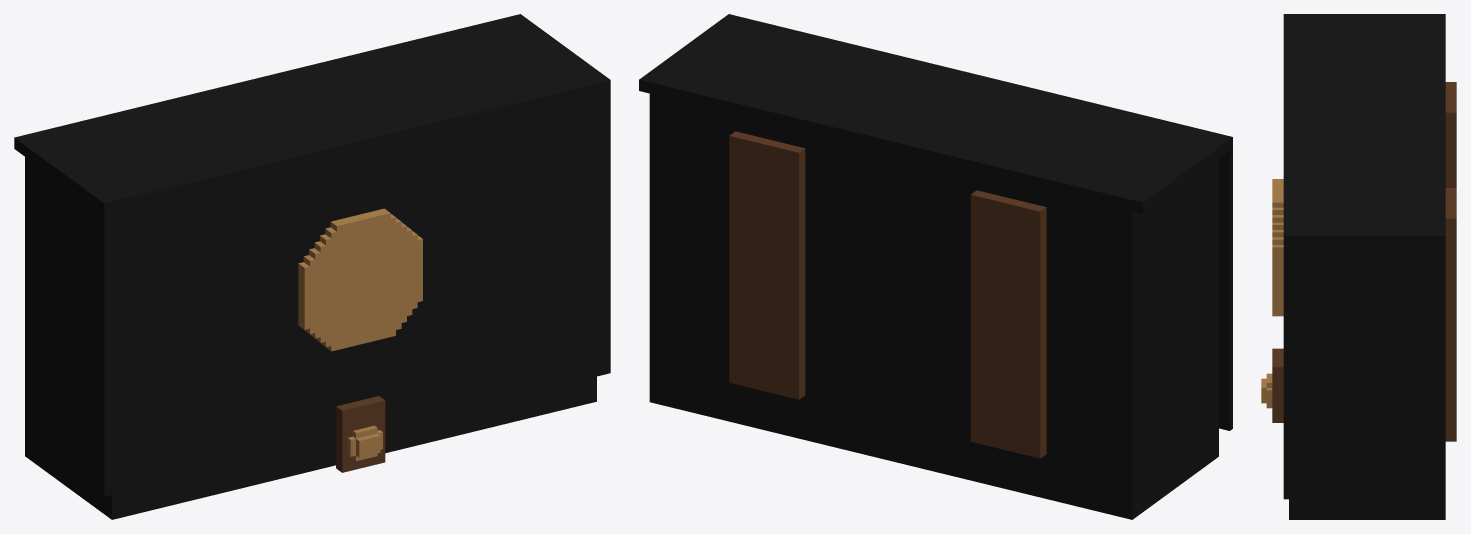
File: flintlock_pouch.glb
The picture shows the model from 3 angles, left to right: view 1: azimuth 30°, elevation 25°; view 2: azimuth 150°, elevation 25°; view 3: azimuth 270°, elevation 25°; orthographic projection. The views are drawn at different scales.
Visible parts, largest first — view 1: flintlock_pouch:compound; view 2: flintlock_pouch:compound; view 3: flintlock_pouch:compound.
Boxes of the visible parts, x1,y1,x2,y2 form: flintlock_pouch:compound: [14, 14, 610, 519]; flintlock_pouch:compound: [639, 14, 1232, 519]; flintlock_pouch:compound: [1261, 14, 1456, 519].
Size of the model in its own units: 0.188 by 0.114 by 0.07.
